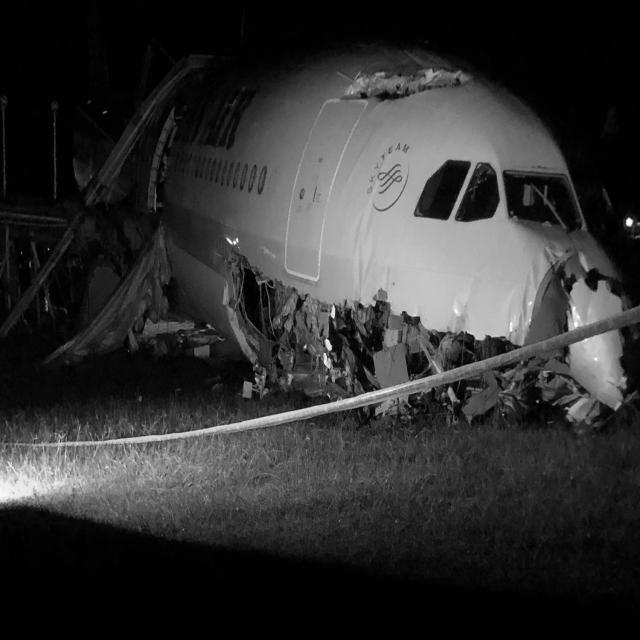crack: (340, 72, 467, 114)
